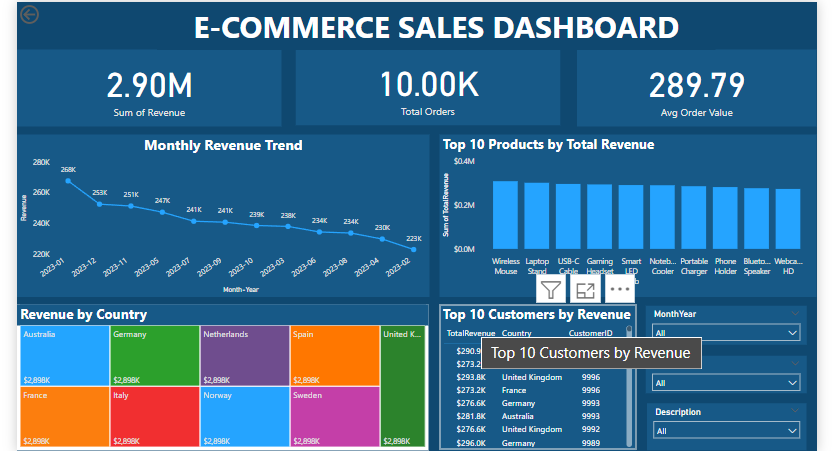

This screenshot's page, from the dashboard's own definition file:
{"tool":"powerbi","page":{"name":"Dashboard","canvas":[1280,720],"ordinal":0},"visuals":[{"type":"actionButton","box":[0,0,100,40],"z":0},{"type":"card","fields":{"Values":["Sum(ecommerce_output.Revenue)"]},"box":[0,76.7,423.3,123.3],"z":1000},{"type":"card","fields":{"Values":["Count(ecommerce_output.InvoiceNo)"]},"box":[446.7,73.3,423.3,123.3],"z":2000},{"type":"card","fields":{"Values":["country_revenue.AvgOrderValue"]},"box":[896.7,76.7,383.3,123.3],"z":3000},{"type":"lineChart","title":"Monthly Revenue Trend","fields":{"Y":["Sum(ecommerce_output.Revenue)"],"Category":["ecommerce_output.MonthYear"]},"box":[0,211.7,660,260],"z":4000},{"type":"clusteredColumnChart","title":"Top 10 Products by Total Revenue","fields":{"Category":["top_products.Description"],"Y":["Sum(top_products.TotalRevenue)"]},"box":[676.7,211.7,603.3,260],"z":5000},{"type":"treemap","title":"Revenue by Country","fields":{"Group":["ecommerce_output.Country"],"Values":["Sum(top_products.TotalRevenue)"]},"box":[0,483.3,658.3,233.3],"z":6000},{"type":"tableEx","title":"Top 10 Customers by Revenue","fields":{"Values":["top_products.TotalRevenue","ecommerce_output.Country","ecommerce_output.CustomerID"]},"box":[676.7,483.3,313.3,233.3],"z":7000},{"type":"textbox","box":[223.3,0,893.3,76.7],"z":8000},{"type":"slicer","fields":{"Values":["ecommerce_output.MonthYear"]},"box":[1005,485,257.5,62.5],"z":9000},{"type":"slicer","fields":{"Values":["ecommerce_output.Country"]},"box":[1005,565,257.5,60],"z":10000},{"type":"slicer","fields":{"Values":["top_products.Description"]},"box":[1007.5,642.5,255,75],"z":11000},{"type":"image","box":[20,90,100,95],"z":11001},{"type":"image","box":[475,85,90,105],"z":11002},{"type":"image","box":[902.5,82.5,87.5,102.5],"z":11003}]}

Visuals, with their boxes on the page's 1280x720 design canvas (x1, y1, x2, y2). These are canvas units, not pixel positions in the 838x451 screenshot, which may show the page scaled, cropped or inside an application window:
actionButton: <bbox>0, 0, 100, 40</bbox>
card - Sum(ecommerce_output.Revenue): <bbox>0, 77, 423, 200</bbox>
card - Count(ecommerce_output.InvoiceNo): <bbox>447, 73, 870, 197</bbox>
card - country_revenue.AvgOrderValue: <bbox>897, 77, 1280, 200</bbox>
"Monthly Revenue Trend" lineChart: <bbox>0, 212, 660, 472</bbox>
"Top 10 Products by Total Revenue" clusteredColumnChart: <bbox>677, 212, 1280, 472</bbox>
"Revenue by Country" treemap: <bbox>0, 483, 658, 717</bbox>
"Top 10 Customers by Revenue" tableEx: <bbox>677, 483, 990, 717</bbox>
textbox: <bbox>223, 0, 1117, 77</bbox>
slicer - ecommerce_output.MonthYear: <bbox>1005, 485, 1262, 548</bbox>
slicer - ecommerce_output.Country: <bbox>1005, 565, 1262, 625</bbox>
slicer - top_products.Description: <bbox>1008, 642, 1262, 718</bbox>
image: <bbox>20, 90, 120, 185</bbox>
image: <bbox>475, 85, 565, 190</bbox>
image: <bbox>902, 82, 990, 185</bbox>
